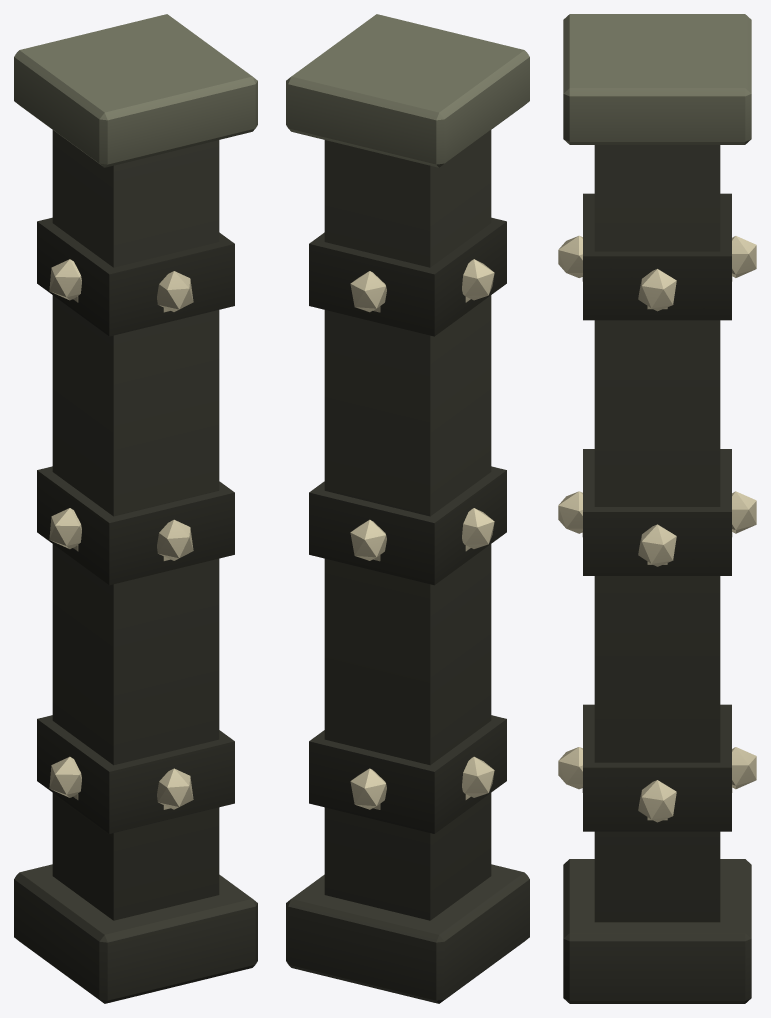
The model's file is ossuary_pillar.glb.
The picture shows the model from 3 angles, left to right: view 1: azimuth 30°, elevation 25°; view 2: azimuth 150°, elevation 25°; view 3: azimuth 270°, elevation 25°; orthographic projection. The views are drawn at different scales.
Visible parts, largest first — view 1: ossuary_pillar_mesh; view 2: ossuary_pillar_mesh; view 3: ossuary_pillar_mesh.
Boxes of the visible parts, x1=… form: ossuary_pillar_mesh: x1=14, y1=14, x2=257, y2=1003; ossuary_pillar_mesh: x1=286, y1=14, x2=529, y2=1003; ossuary_pillar_mesh: x1=558, y1=14, x2=756, y2=1003.
Size of the model in its own units: 1.27 by 6.45 by 1.27.
